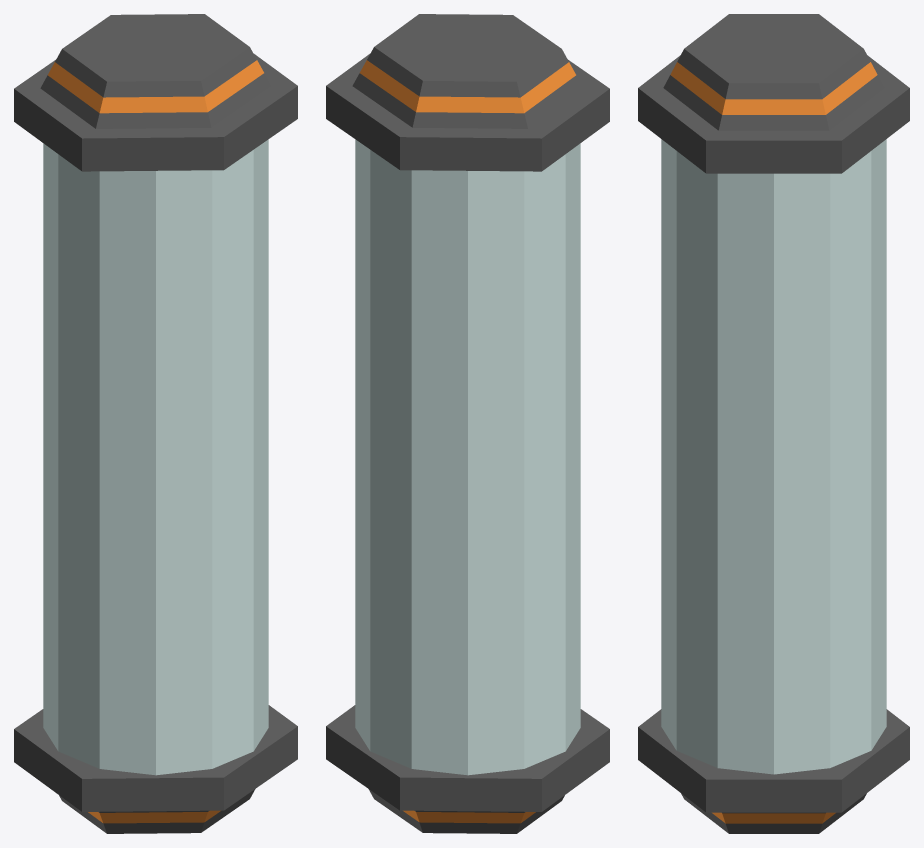
Rendered from model-collectable-health-tank-high.fbx.
3 renders of one model, left to right at view 1: azimuth 30°, elevation 25°; view 2: azimuth 150°, elevation 25°; view 3: azimuth 270°, elevation 25°, orthographic.
Visible parts, largest first — view 1: mesh; view 2: mesh; view 3: mesh.
Part boxes in pixels (x1=…): mesh: x1=14, y1=14, x2=297, y2=833; mesh: x1=326, y1=14, x2=609, y2=833; mesh: x1=638, y1=14, x2=909, y2=833.
Size of the model in its own units: 0.3001 by 0.3279 by 0.9991.
